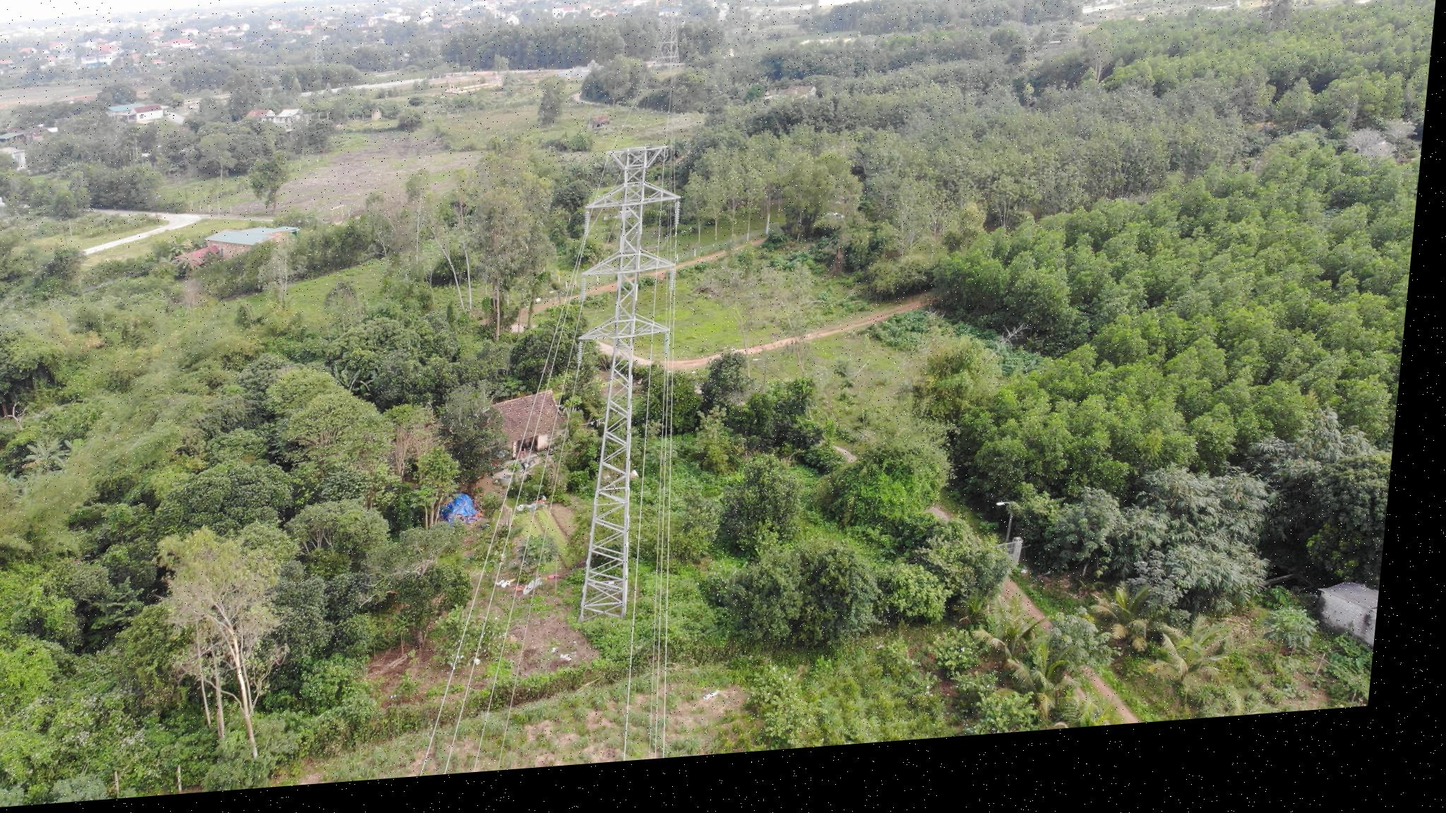tower: (539, 126, 688, 638)
